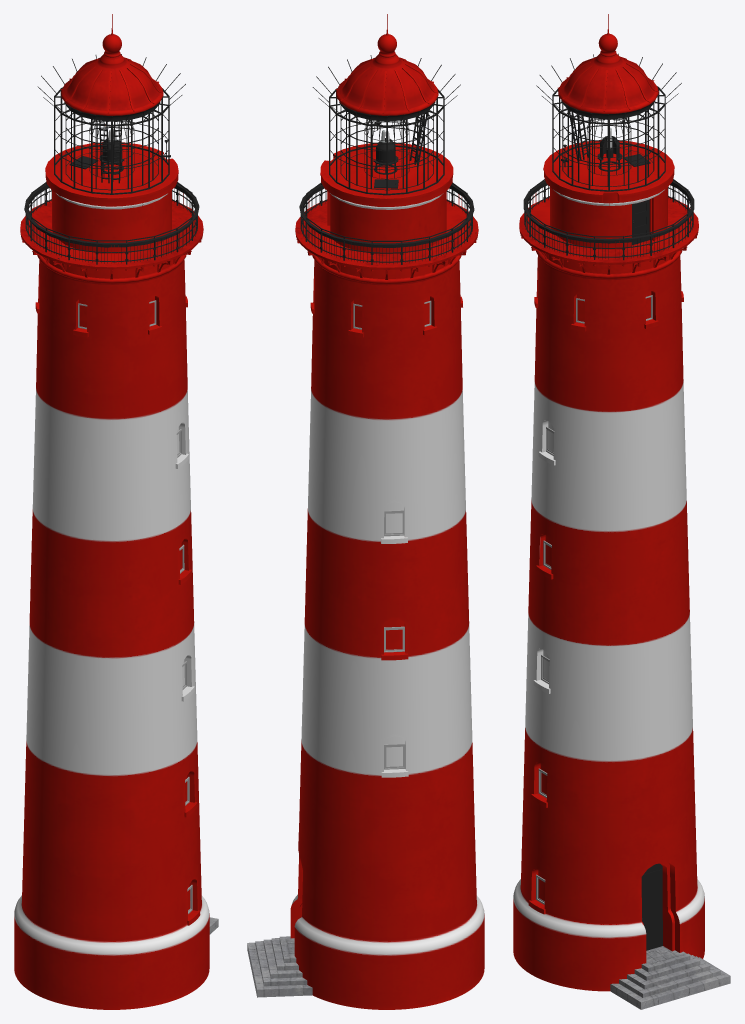
Rendered from Lighthouse_v1_Unlit.fbx.
3 views of the same model, side by side, from view 1: azimuth 30°, elevation 25°; view 2: azimuth 150°, elevation 25°; view 3: azimuth 270°, elevation 25° (orthographic).
Parts seen in each view (by area): view 1: Lighthouse_low, Lamp_Frame_low, Roof_low, Floor_low, Railing_H_low, Railing_V_low, Door_And_Windows_low, Floor_ring_low, Wooden_Stairs_low; view 2: Lighthouse_low, Lamp_Frame_low, Roof_low, Floor_low, Stairs_low, Railing_H_low, Railing_V_low, Door_And_Windows_low, Floor_ring_low; view 3: Lighthouse_low, Lamp_Frame_low, Roof_low, Stairs_low, Floor_low, Door_And_Windows_low, Railing_H_low, Railing_V_low, Floor_ring_low.
Boxes of the visible parts, x1,y1,x2,y2 form: Lighthouse_low: [14, 142, 209, 1009]; Lamp_Frame_low: [37, 54, 185, 194]; Roof_low: [60, 14, 163, 115]; Floor_low: [20, 199, 203, 269]; Railing_H_low: [24, 183, 199, 262]; Railing_V_low: [25, 182, 197, 270]; Door_And_Windows_low: [35, 296, 200, 925]; Floor_ring_low: [37, 254, 186, 284]; Wooden_Stairs_low: [99, 120, 122, 183]; Lighthouse_low: [290, 143, 484, 1009]; Lamp_Frame_low: [312, 55, 460, 195]; Roof_low: [335, 14, 438, 115]; Floor_low: [295, 199, 478, 269]; Stairs_low: [247, 936, 312, 997]; Railing_H_low: [299, 184, 474, 262]; Railing_V_low: [300, 182, 472, 271]; Door_And_Windows_low: [310, 296, 462, 777]; Floor_ring_low: [312, 255, 461, 285]; Lighthouse_low: [513, 140, 704, 991]; Lamp_Frame_low: [536, 53, 681, 191]; Roof_low: [558, 14, 658, 113]; Stairs_low: [610, 946, 730, 1009]; Floor_low: [519, 197, 698, 264]; Door_And_Windows_low: [528, 199, 683, 950]; Railing_H_low: [523, 180, 694, 257]; Railing_V_low: [524, 179, 693, 266]; Floor_ring_low: [535, 248, 682, 280].
Size of the model in its own units: 993 by 4359 by 917.
2 materials, 2 textured.
